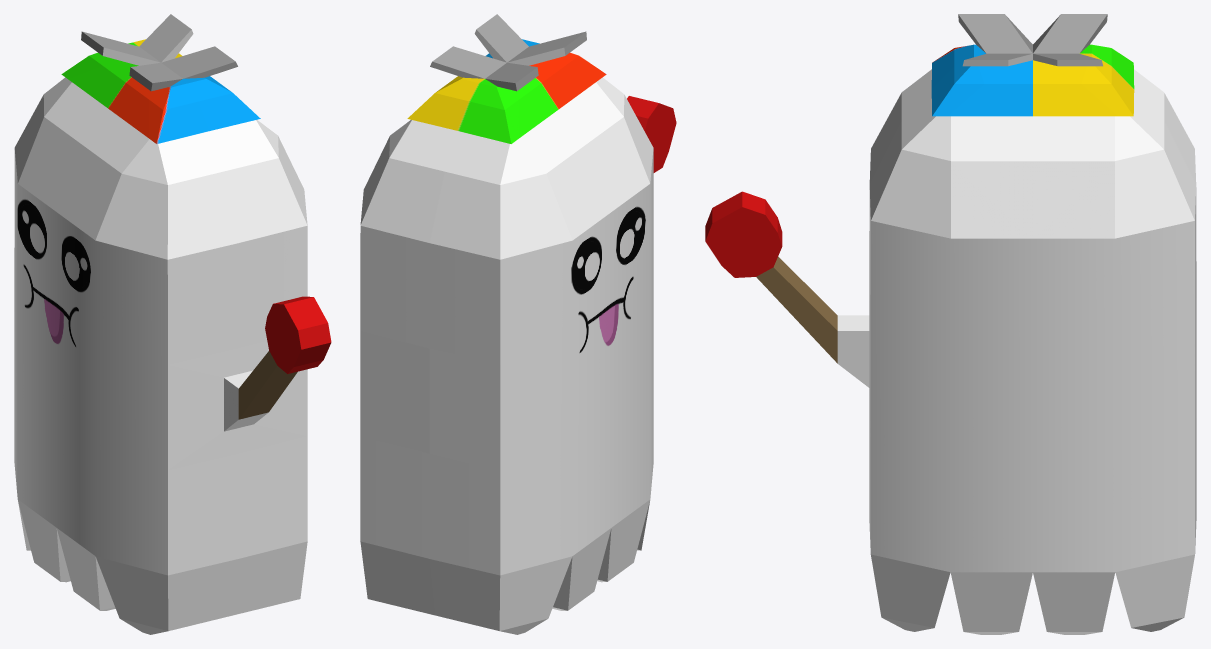
The model's file is fantasmita.FBX.
3 views of the same model, side by side, from view 1: azimuth 30°, elevation 25°; view 2: azimuth 150°, elevation 25°; view 3: azimuth 270°, elevation 25° (orthographic). The views are drawn at different scales.
Parts seen in each view (by area): view 1: Box001; view 2: Box001; view 3: Box001.
Boxes of the visible parts, left/top/right/bottom form: Box001: left=14, top=14, right=331, bottom=634; Box001: left=360, top=14, right=676, bottom=634; Box001: left=705, top=14, right=1196, bottom=634.
Size of the model in its own units: 0.6652 by 1.6 by 1.28.
Materials: 1 (1 with a texture image).
